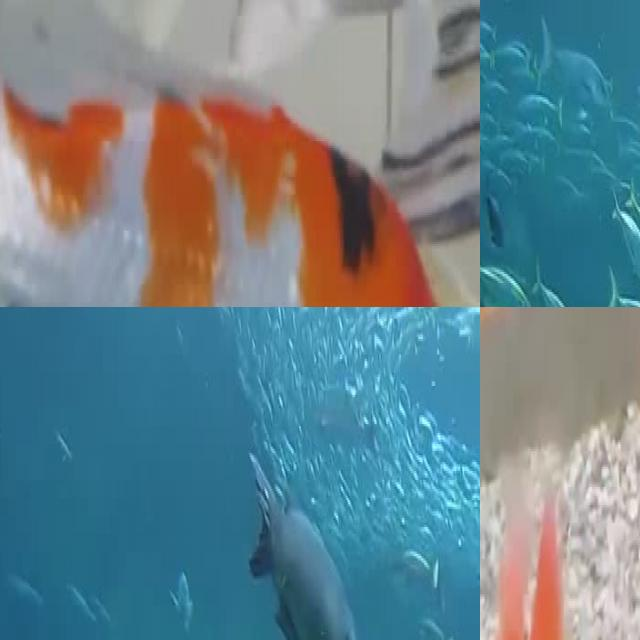fish: (0, 0, 480, 307), (480, 307, 607, 411)
